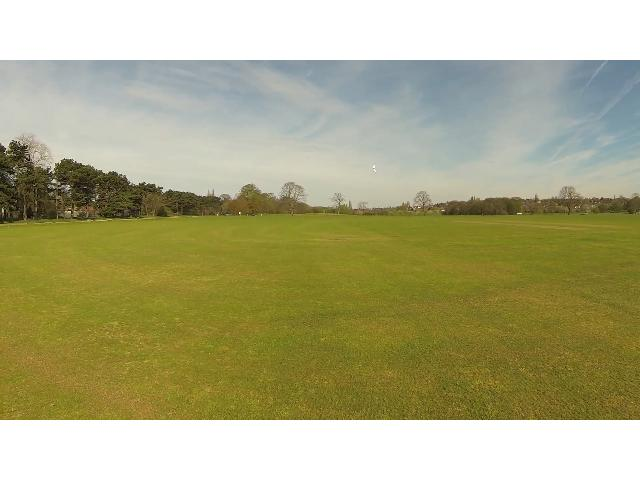Anti-Drone: (366, 160, 382, 176)
